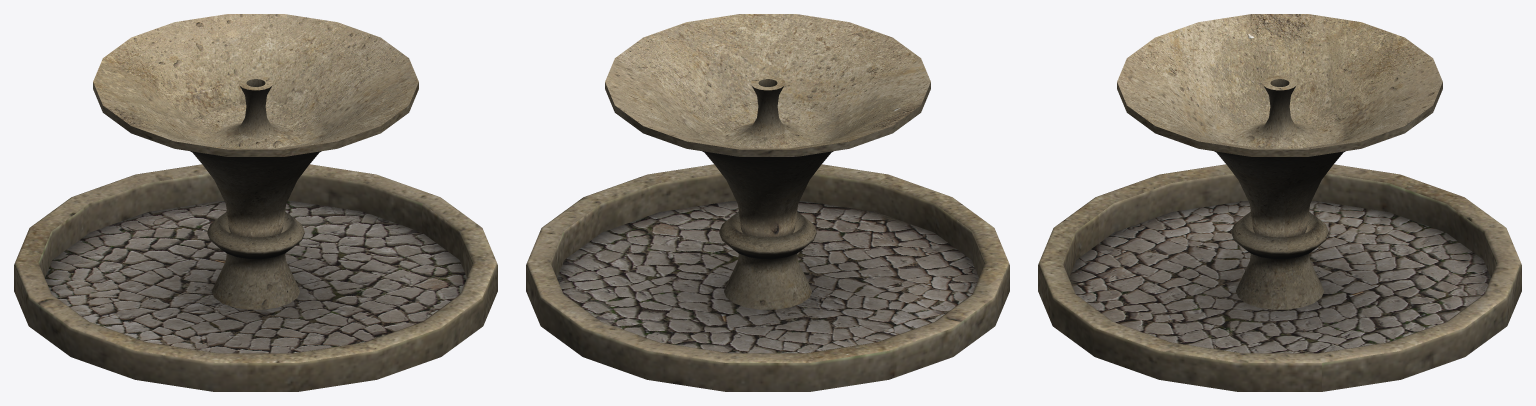
The model's file is fountain.obj.
3 views of the same model, side by side, from view 1: azimuth 30°, elevation 25°; view 2: azimuth 150°, elevation 25°; view 3: azimuth 270°, elevation 25° (orthographic).
Parts seen in each view (by area): view 1: fountain; view 2: fountain; view 3: fountain.
Boxes of the visible parts, <box> form: fountain: <box>14,14,497,391</box>; fountain: <box>526,14,1009,391</box>; fountain: <box>1038,14,1521,391</box>.
Size of the model in its own units: 0.7422 by 0.3601 by 0.7537.
Materials: 1 (1 with a texture image).
